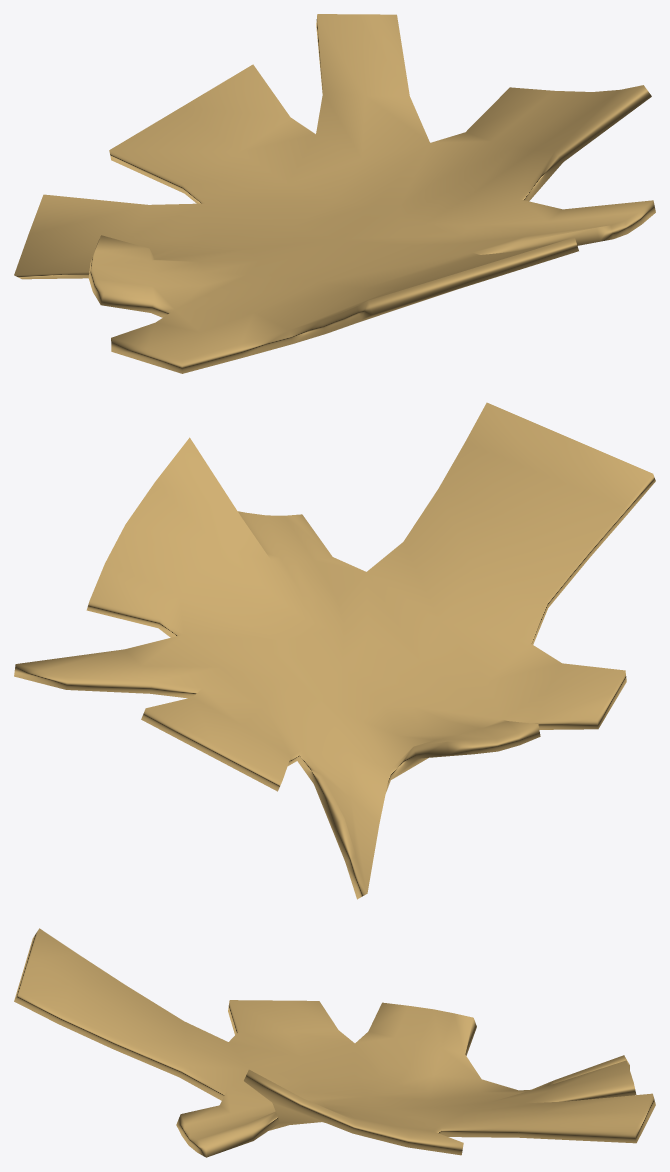
The picture shows the model from 3 angles, top to bottom: view 1: azimuth 30°, elevation 25°; view 2: azimuth 150°, elevation 25°; view 3: azimuth 270°, elevation 25°; orthographic projection. The views are drawn at different scales.
Parts seen in each view (by area): view 1: 右侧腕辐状韧带; view 2: 右侧腕辐状韧带; view 3: 右侧腕辐状韧带.
Boxes of the visible parts, x1,y1,x2,y2 form: 右侧腕辐状韧带: (14,14,655,373); 右侧腕辐状韧带: (14,402,655,899); 右侧腕辐状韧带: (14,928,655,1157).
Size of the model in its own units: 0.0296 by 0.0142 by 0.037.
